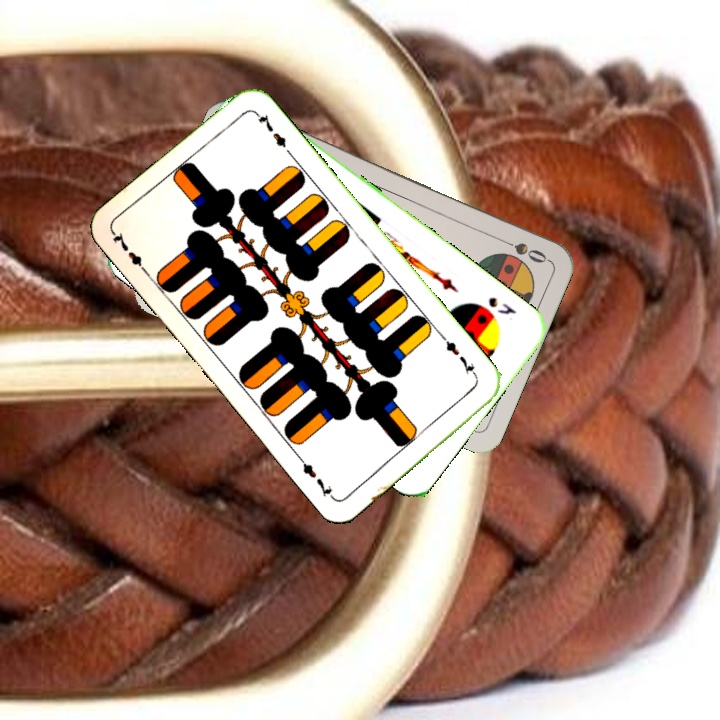E7: (438, 332, 481, 382), (109, 228, 152, 278)
SK: (484, 292, 519, 318)
SO: (494, 234, 550, 266)
